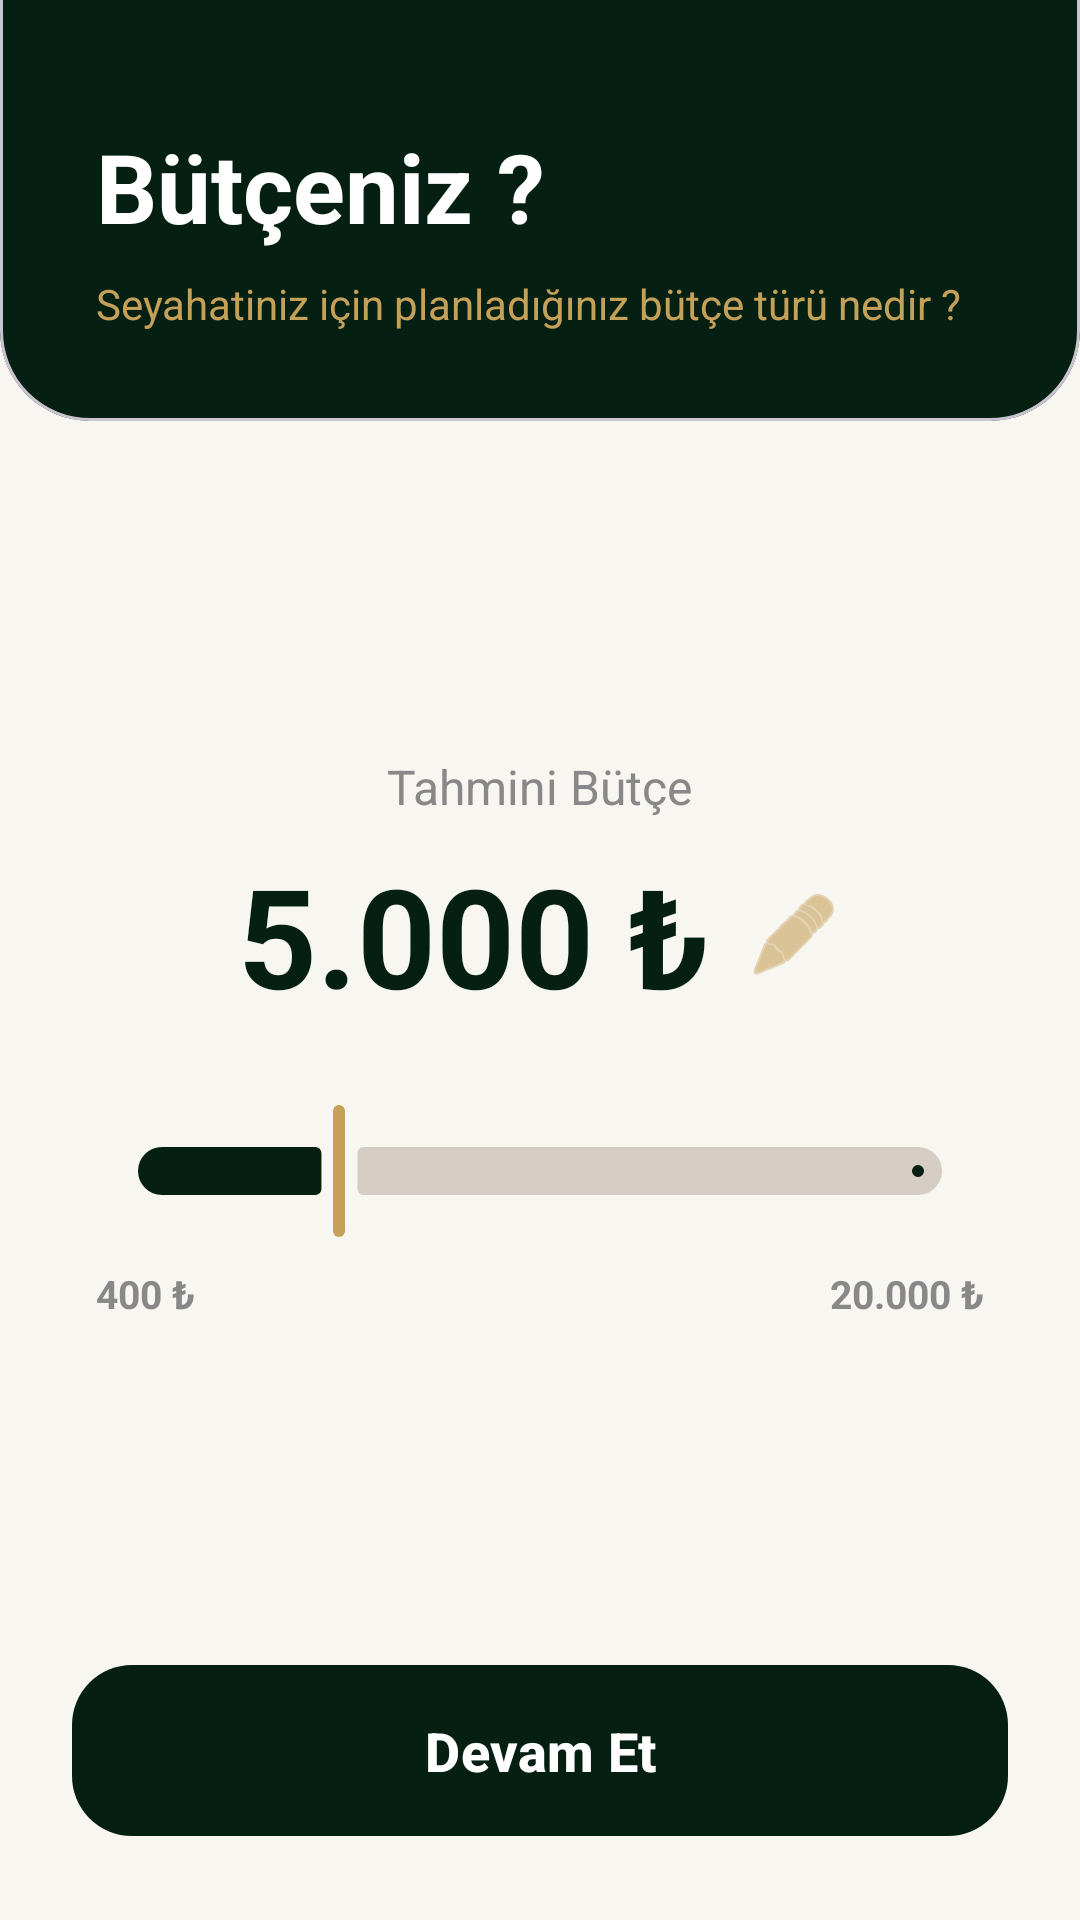

Locate icon controls on the screen. Image size 1080*1920, boxes as BBox(x1, y1, x2, y2).
edit: BBox(753, 894, 834, 975)
